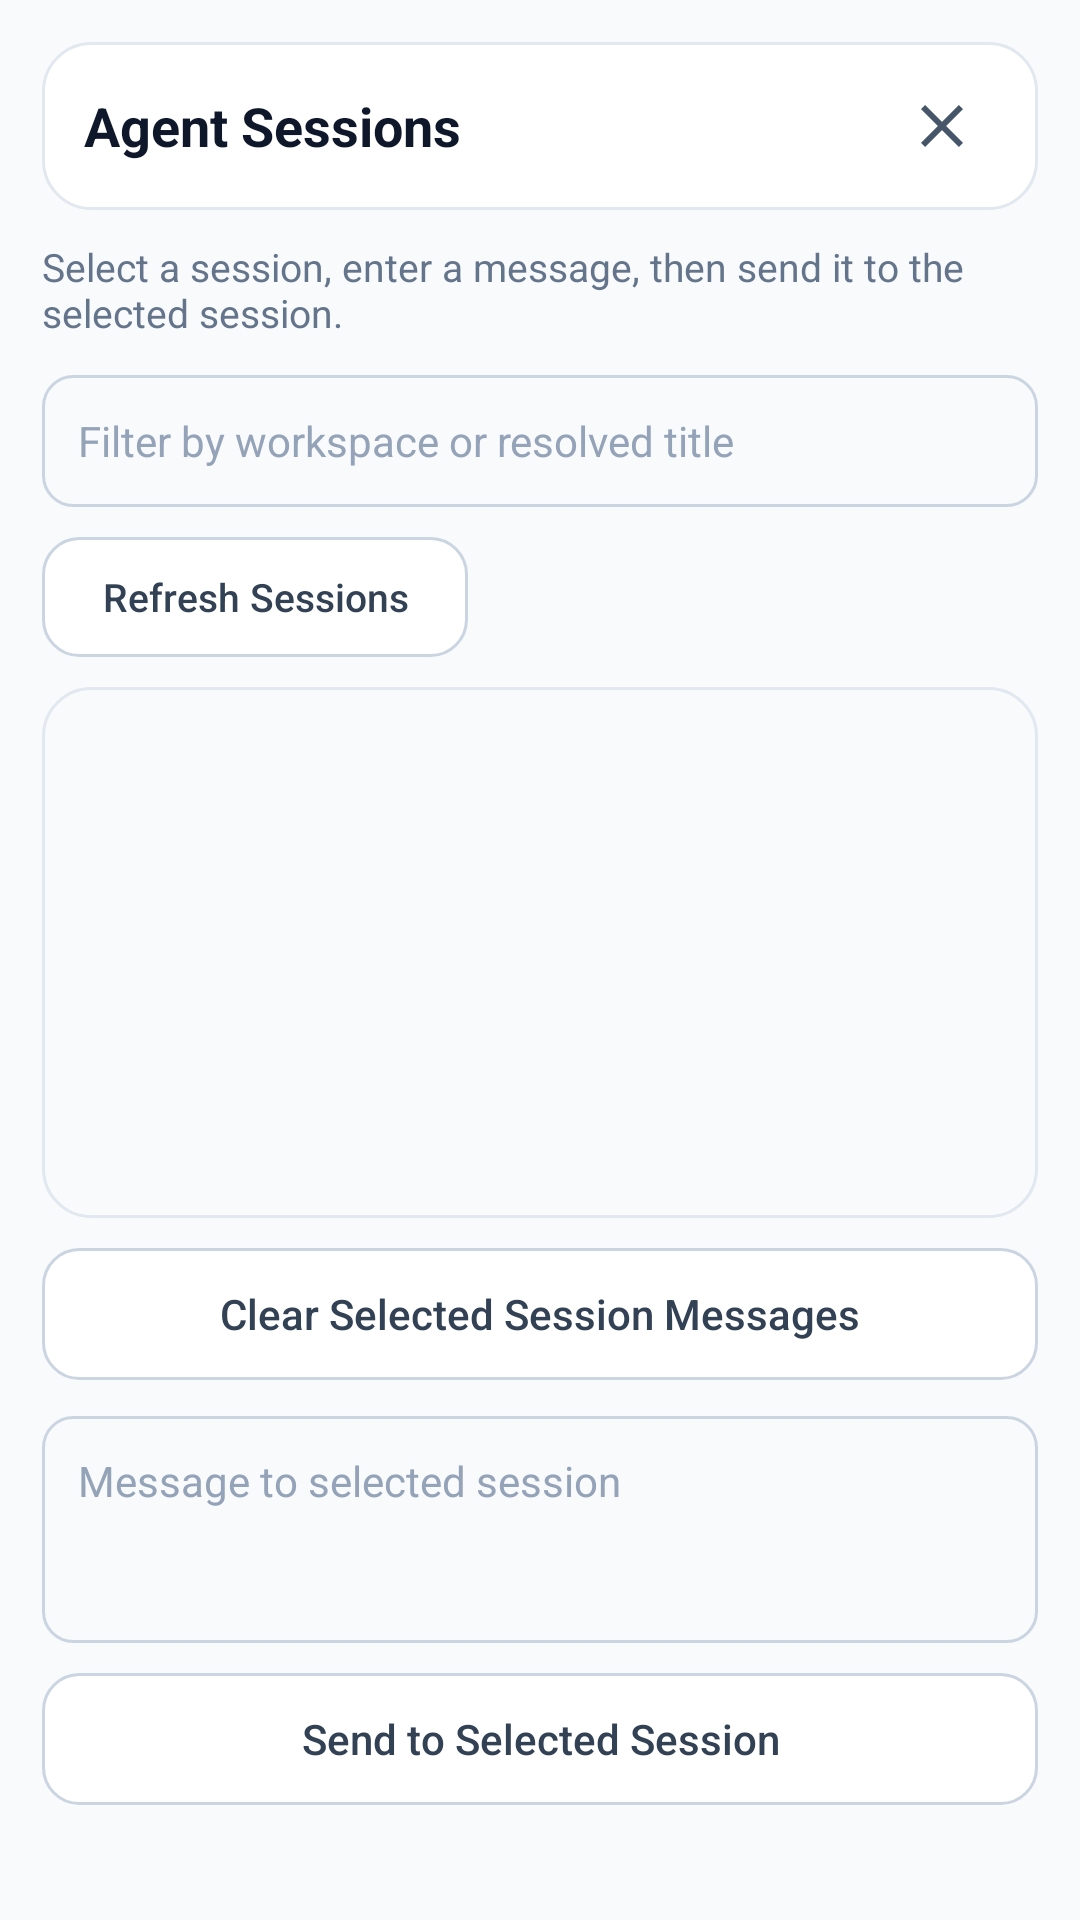

Locate icon controls on the screen. Image size 1080w x 1920h, boxes as [x1, y1, x2, y2].
Close sessions dialog: [921, 105, 963, 147]
